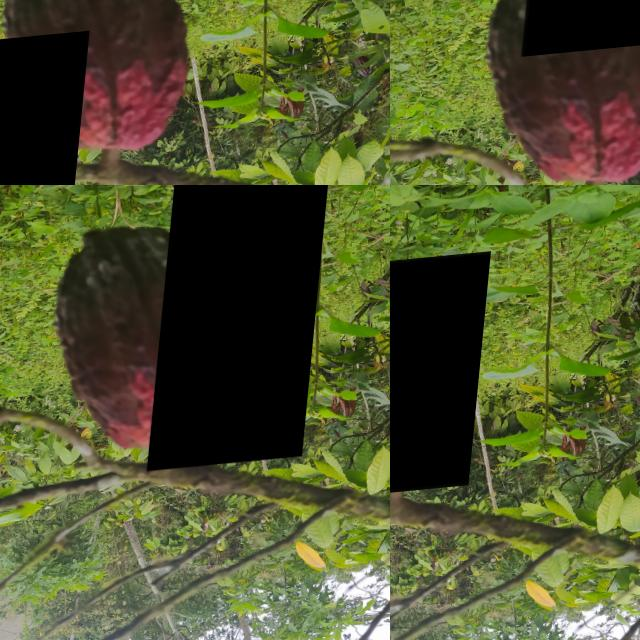Fitoftora: (154, 185, 333, 477), (390, 259, 493, 508)
